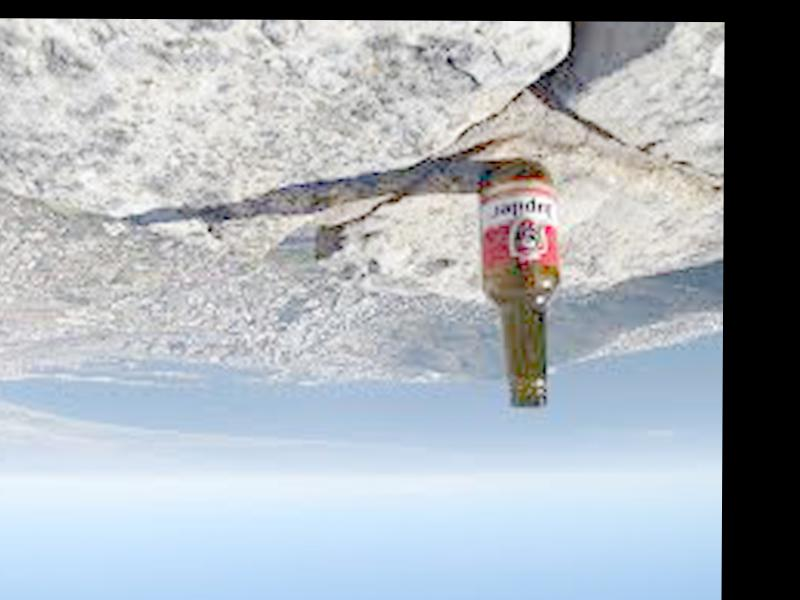Beer: (478, 168, 562, 410)
